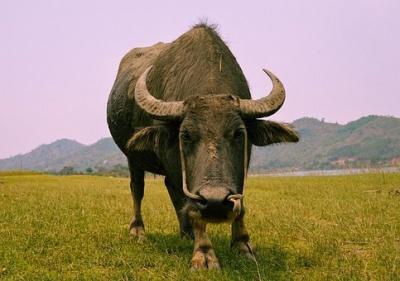buffalo: (107, 23, 298, 268)
